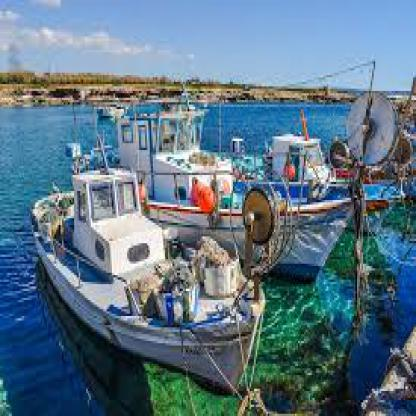fish-b: (27, 152, 276, 394), (89, 84, 369, 284)
